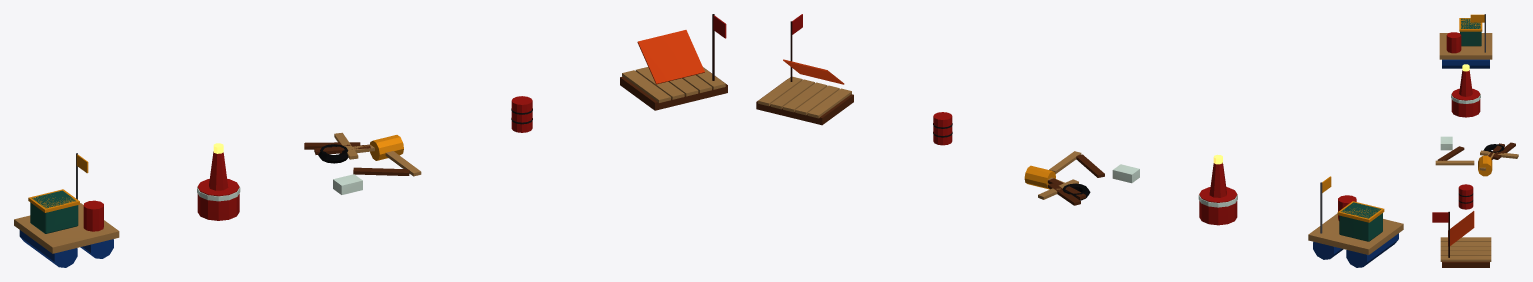
Rendered from tb_debris_kit.glb.
3 views of the same model, side by side, from view 1: azimuth 30°, elevation 25°; view 2: azimuth 150°, elevation 25°; view 3: azimuth 270°, elevation 25° (orthographic). The views are drawn at different scales.
Visible parts, largest first — view 1: cache_crate, castaway_raft, debris_patch, buoy, oil_drum; view 2: cache_crate, castaway_raft, debris_patch, buoy, oil_drum; view 3: cache_crate, castaway_raft, debris_patch, buoy, oil_drum.
Boxes of the visible parts, <box> form: cache_crate: <box>14,153,119,267</box>; castaway_raft: <box>620,14,727,110</box>; debris_patch: <box>304,132,421,194</box>; buoy: <box>197,143,240,220</box>; oil_drum: <box>511,96,532,132</box>; cache_crate: <box>1308,176,1403,267</box>; castaway_raft: <box>756,14,853,125</box>; debris_patch: <box>1024,151,1139,205</box>; buoy: <box>1198,154,1237,225</box>; oil_drum: <box>933,112,952,145</box>; cache_crate: <box>1439,14,1492,68</box>; castaway_raft: <box>1432,211,1491,267</box>; debris_patch: <box>1435,136,1518,176</box>; buoy: <box>1451,64,1480,117</box>; oil_drum: <box>1458,184,1473,209</box>.
Bounding box in the file's own units: 22.3 × 2.85 × 3.59.
